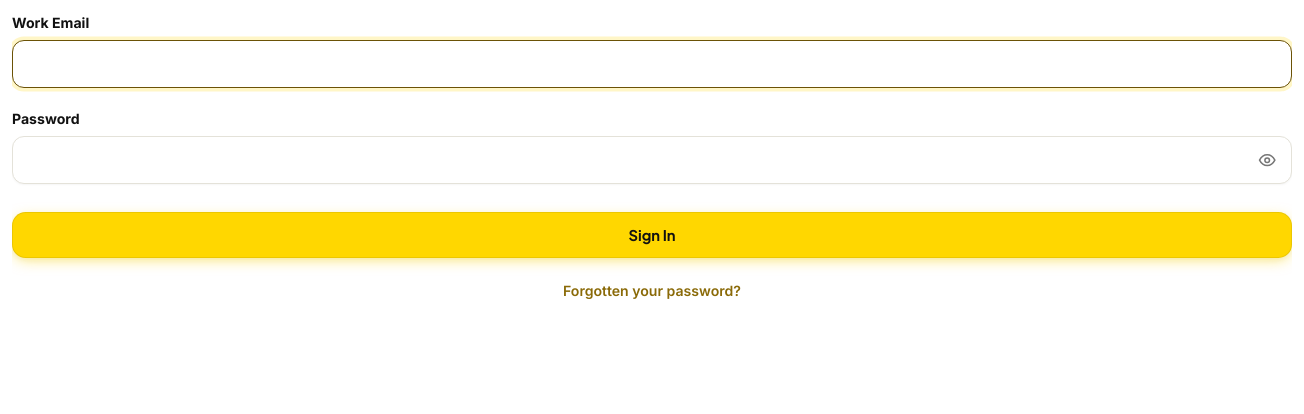
Test: LoginForm › surfaces per-field validation errors and links them for screen readers
In the field labelled "Work Email": (652, 64) [12, 40, 1292, 88], type "bad"
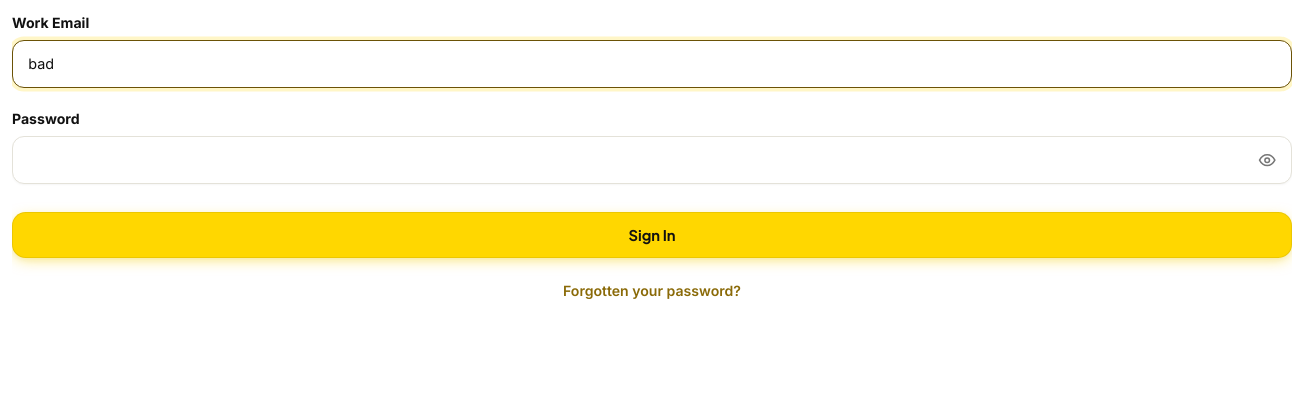
In the password field labelled "Password": (652, 160) [12, 136, 1292, 184], type "something"
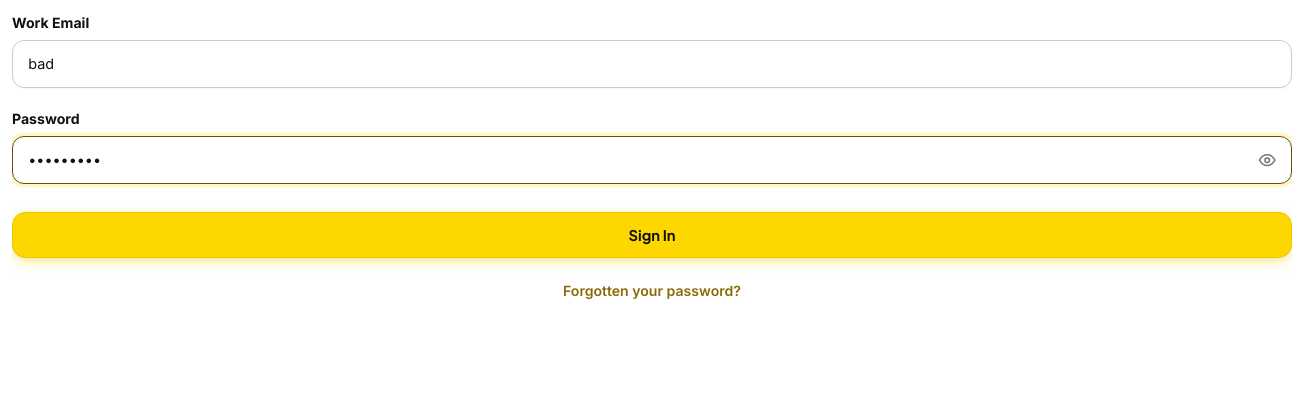
Click the button "Sign In": click(652, 235) [12, 212, 1292, 258]
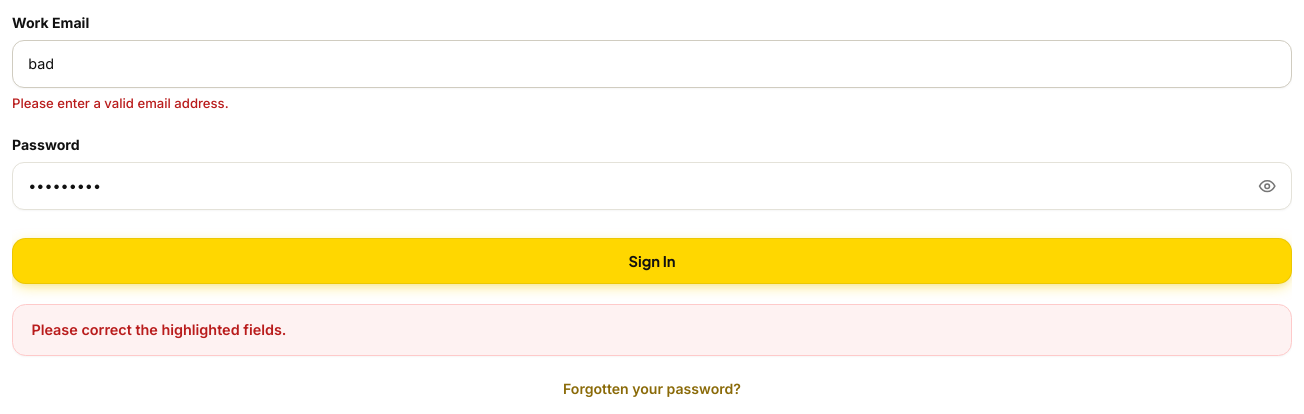
Now the text "Please enter a valid email address." is shown, box [12, 95, 229, 111]
